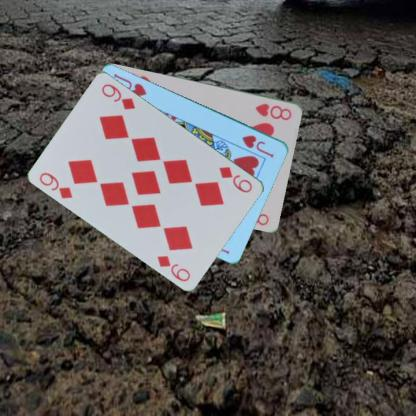8h: (252, 100, 293, 122)
9d: (37, 169, 75, 200), (217, 163, 254, 194)
Jh: (240, 132, 275, 159)
